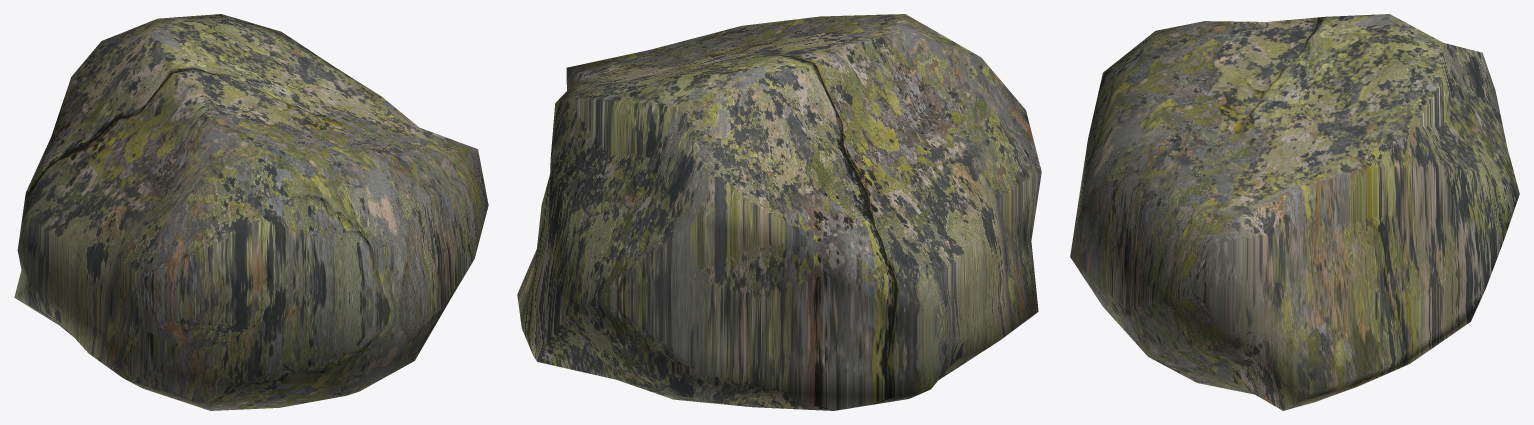
The model's file is boulder_a_lod1.gltf.
3 renders of one model, left to right at view 1: azimuth 30°, elevation 25°; view 2: azimuth 150°, elevation 25°; view 3: azimuth 270°, elevation 25°, orthographic. The views are drawn at different scales.
Parts seen in each view (by area): view 1: boulder_a_LOD1; view 2: boulder_a_LOD1; view 3: boulder_a_LOD1.
Boxes of the visible parts, bbox=[...] form: boulder_a_LOD1: bbox=[14, 14, 488, 410]; boulder_a_LOD1: bbox=[517, 14, 1041, 410]; boulder_a_LOD1: bbox=[1070, 14, 1519, 410].
Size of the model in its own units: 1.76 by 1.39 by 1.77.
1 material, 1 textured.
